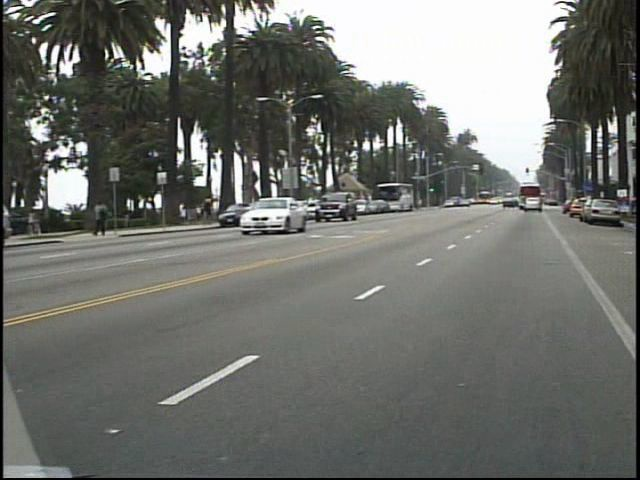person: (98, 194, 120, 238), (206, 190, 225, 224)
